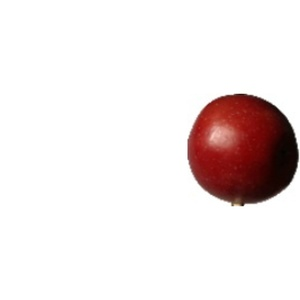maçã braeburn: (187, 92, 300, 205)
